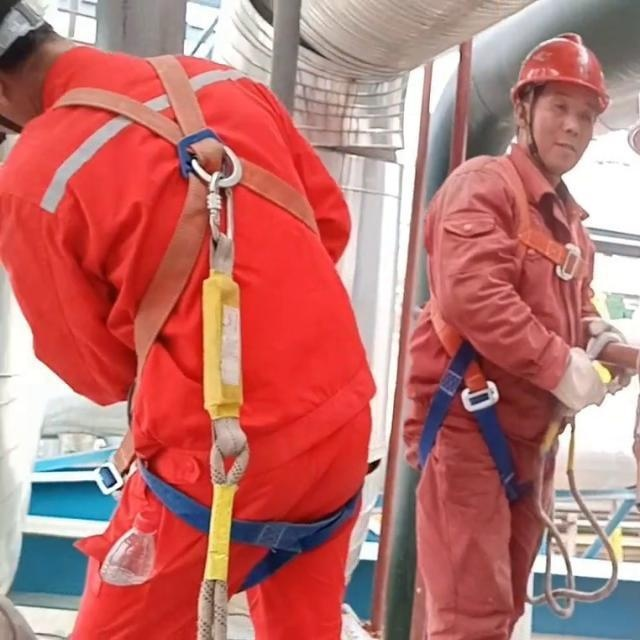Arnes_seguridad: (29, 47, 327, 354), (407, 148, 601, 505)
